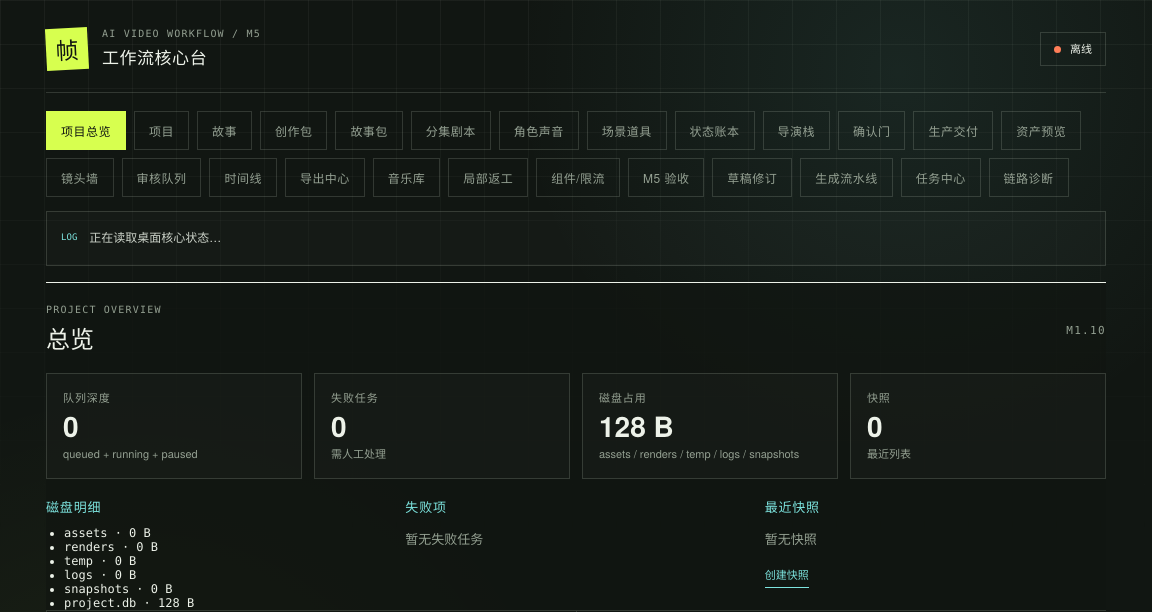
M1 shell › creates and approves an episode script with scenes dialogue and hooks
Step 1. Click the button "分集剧本" → (451, 130), box [411, 111, 491, 150]
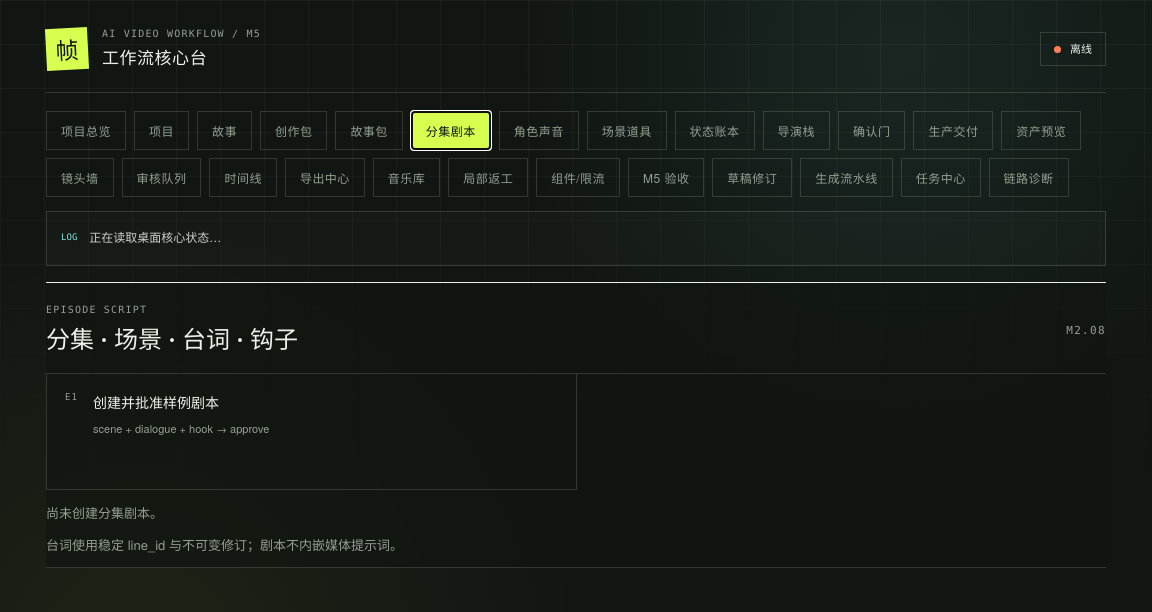
Step 2. Click the button "创建并批准样例剧本" → (156, 402), box [47, 374, 576, 490]
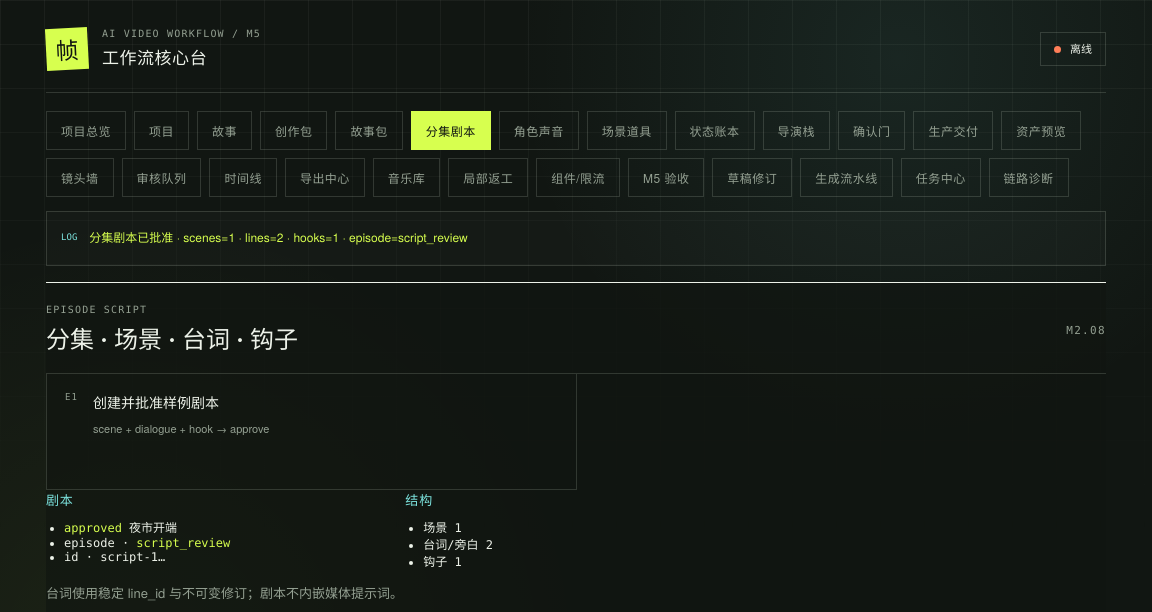
Check: the text "分集剧本已批准" is shown, box [89, 229, 468, 246]
Check: the list named "剧本摘要" shows "夜市开端", box [129, 521, 177, 535]
Check: the list named "剧本结构统计" shows "场景 1", box [423, 521, 493, 569]
